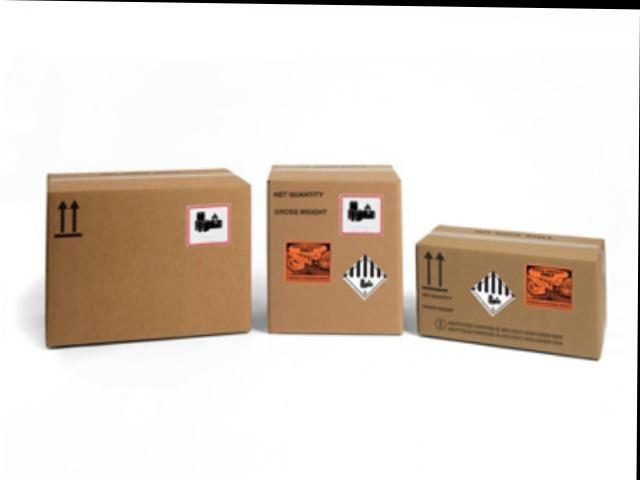package: (45, 170, 253, 346), (415, 223, 607, 361), (266, 162, 405, 337)
